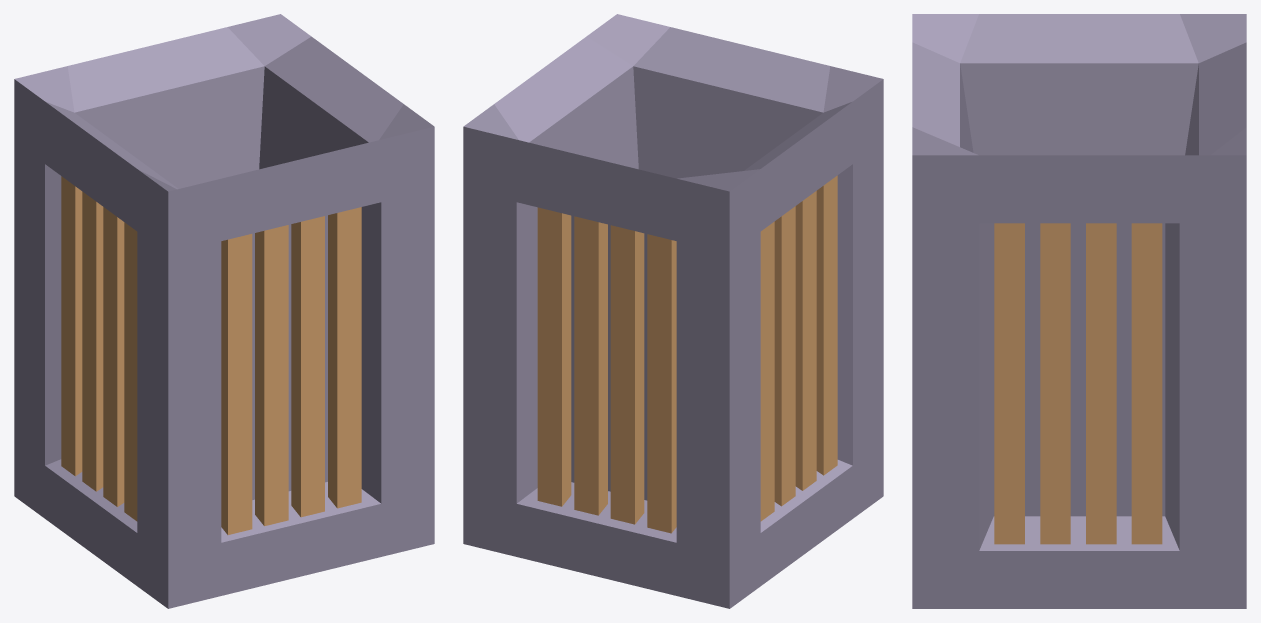
The model's file is trash_can.fbx.
3 views of the same model, side by side, from view 1: azimuth 30°, elevation 25°; view 2: azimuth 150°, elevation 25°; view 3: azimuth 270°, elevation 25° (orthographic). The views are drawn at different scales.
Visible parts, largest first — view 1: Cube.003; view 2: Cube.003; view 3: Cube.003.
Part boxes in pixels (left/top/right/bottom): Cube.003: left=14, top=14, right=434, bottom=608; Cube.003: left=463, top=14, right=883, bottom=608; Cube.003: left=912, top=14, right=1246, bottom=608.
Bounding box in the file's own units: 32.87 × 49.19 × 32.87.
